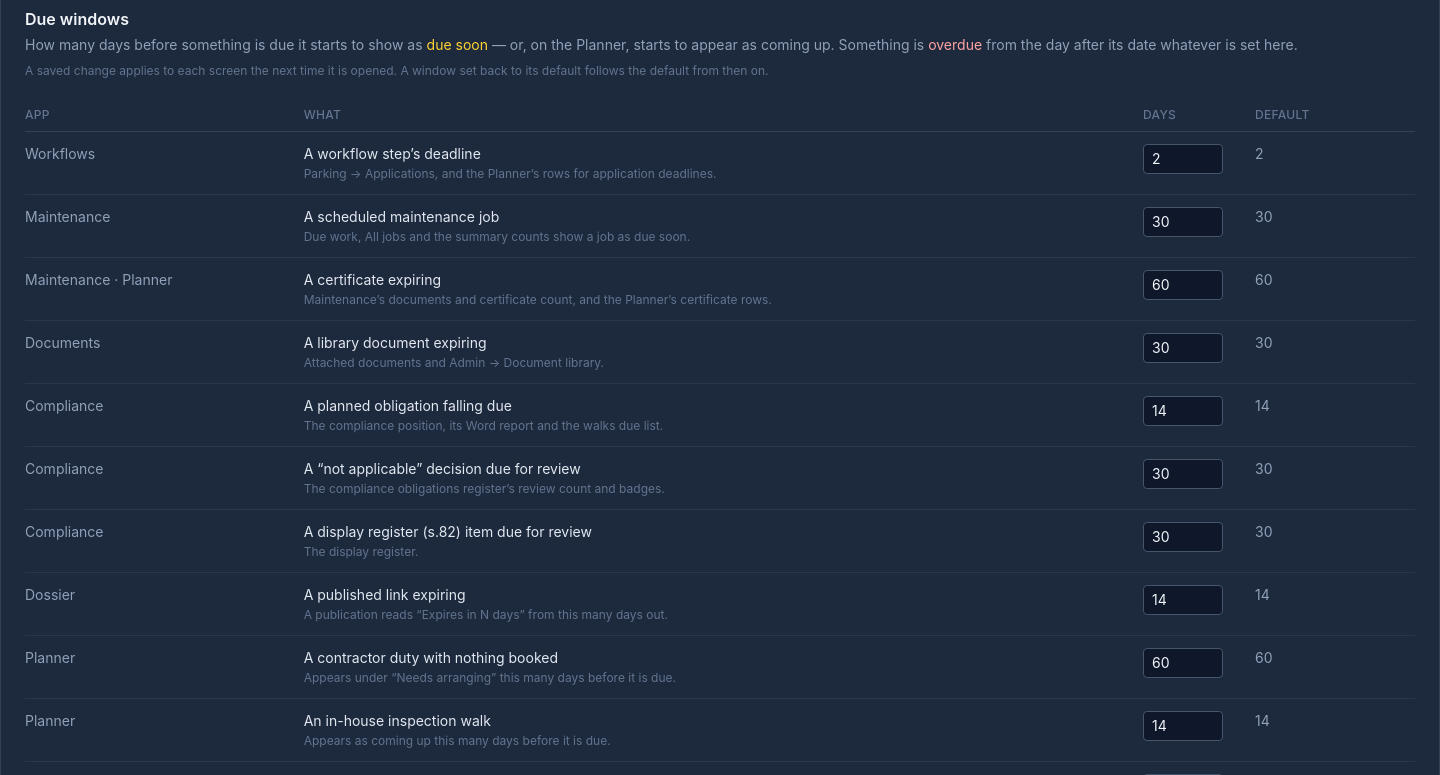
DueWindowsPanel › puts a changed window back to its default
The image size is (1440, 775).
Replace the text in the number field named "A scheduled maintenance job — days" with "45": (1183, 222) [1143, 207, 1223, 237]
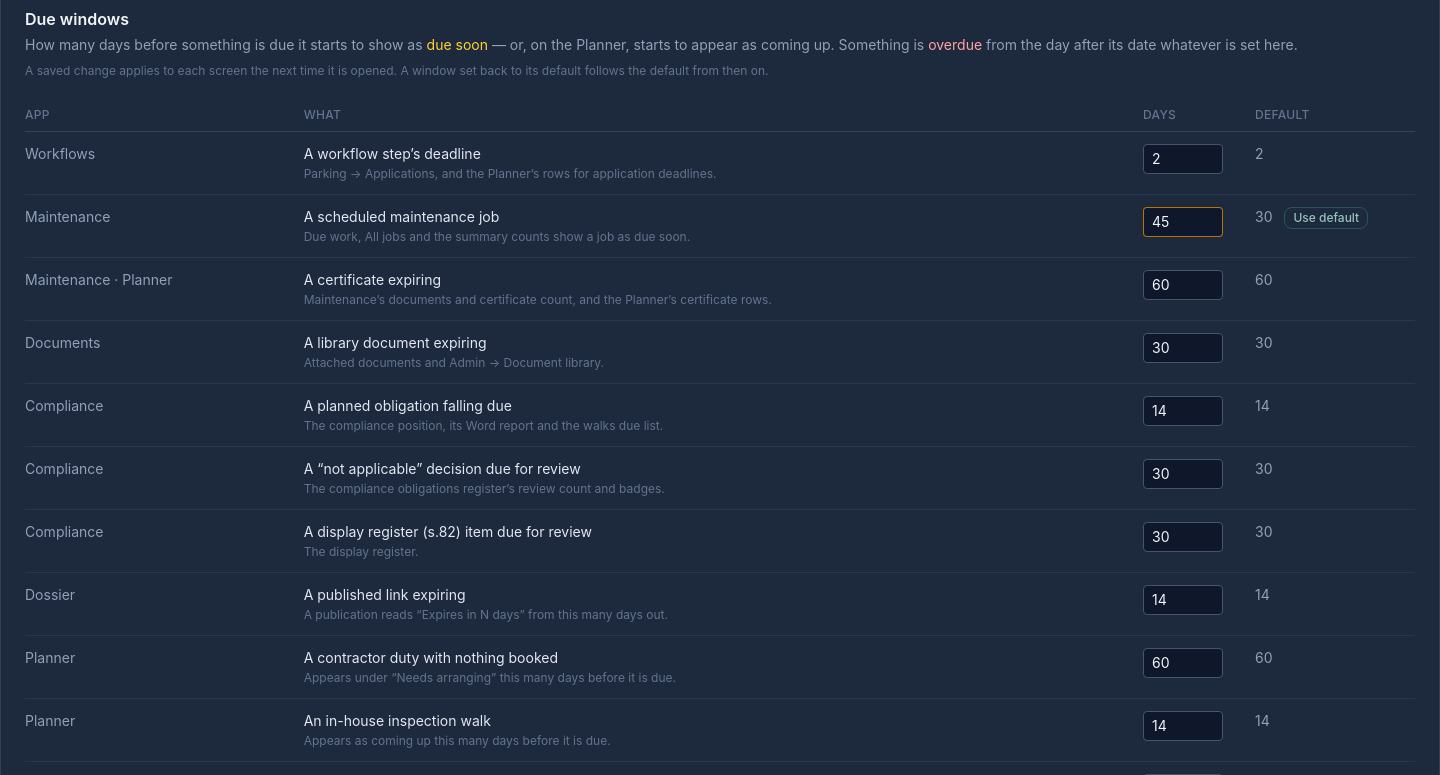
Click the button "Use default": (1326, 218) [1284, 207, 1368, 229]
(page scrolled)
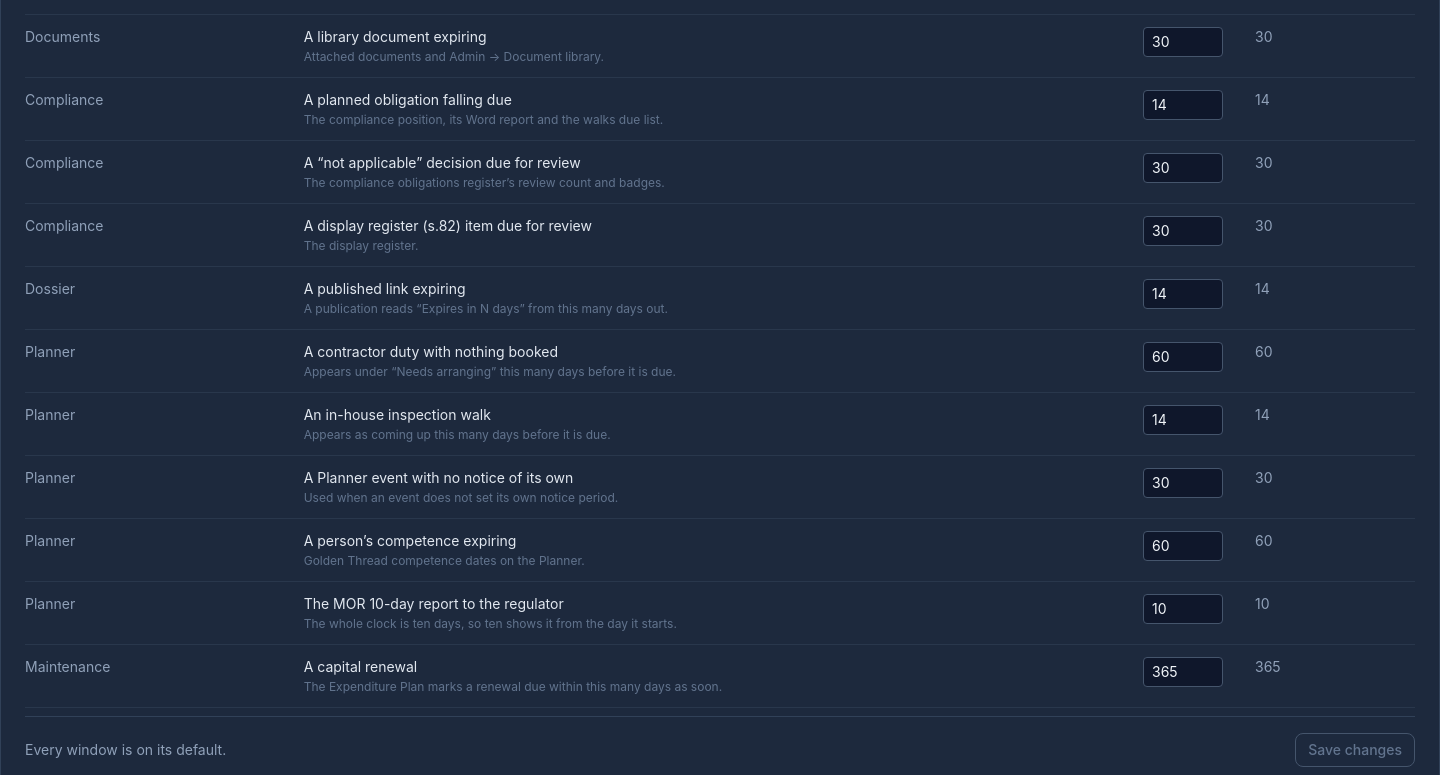
Check: the button "Save changes" is disabled, box [1295, 733, 1415, 767]
